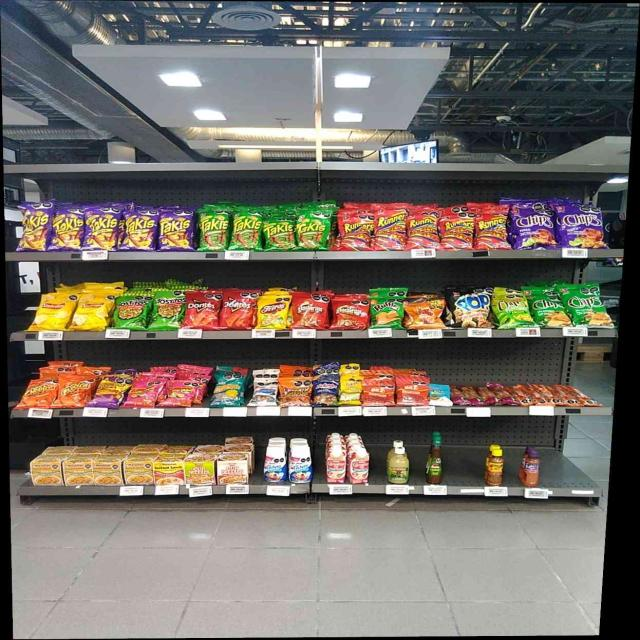bitzAlmendras: (428, 383, 450, 406)
bitzEnchilado90: (362, 376, 395, 406), (397, 376, 426, 407)
bitzEnchilado95: (513, 384, 598, 406)
bitzHabanero: (452, 386, 511, 406)
bokadosCacahuates: (313, 377, 338, 406)
botaneraChilito: (488, 448, 502, 485)
cheetosFlaminHot: (89, 374, 123, 407)
cheetosOriginal: (55, 373, 87, 406), (23, 381, 53, 409)
chipsFuego: (511, 207, 557, 251), (561, 207, 605, 249)
chipsJalapeno: (532, 286, 570, 326), (573, 287, 611, 326)
chipsPapatinas: (494, 292, 530, 327)
churrumais: (162, 380, 203, 406), (127, 378, 159, 407)
delPrimoSalsa: (387, 445, 410, 482)
doritosNacho: (222, 292, 254, 329), (187, 292, 218, 329)
fritosLimon: (257, 296, 292, 329)
hotNutsOriginal: (409, 296, 449, 328)
leoCacahuates: (252, 378, 277, 404)
leoMix: (280, 378, 311, 406)
maruchanPollo: (28, 454, 64, 484), (65, 454, 94, 486), (95, 455, 123, 484), (124, 454, 152, 483)
maruchanRes: (154, 454, 184, 484)
nestleCarnation: (324, 443, 346, 482), (349, 448, 370, 483)
nestleLechera: (289, 442, 314, 483), (262, 445, 286, 483)
nissinCamaron: (185, 451, 217, 485)
nissinRes: (220, 453, 249, 484)
popKarameladas: (453, 288, 492, 328)
rancheritos: (294, 296, 329, 329), (332, 299, 368, 329)
rufflesQueso: (372, 299, 405, 329)
runners: (336, 212, 374, 251), (478, 206, 508, 249), (377, 212, 407, 252), (410, 214, 442, 251), (444, 216, 474, 250)
sabritasOriginal: (37, 294, 75, 330), (77, 293, 113, 329)
salsaBufalo: (429, 440, 443, 483)
semillasCalabaza: (341, 376, 360, 405)
semillasGirasol: (214, 373, 243, 405)
tajinDulce: (522, 450, 540, 486)
takisFuego: (124, 209, 160, 251), (162, 209, 197, 251), (51, 207, 84, 251), (86, 208, 120, 249), (23, 205, 50, 249)
takisOriginal: (233, 210, 264, 252), (300, 210, 331, 251), (200, 210, 230, 251), (267, 219, 297, 250)
tostitos: (116, 293, 150, 329), (152, 291, 184, 329)
